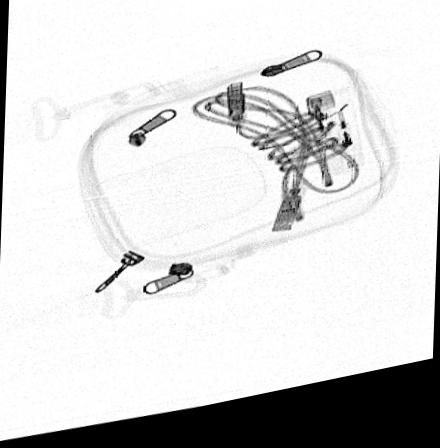Lighter: (305, 101, 355, 171)
